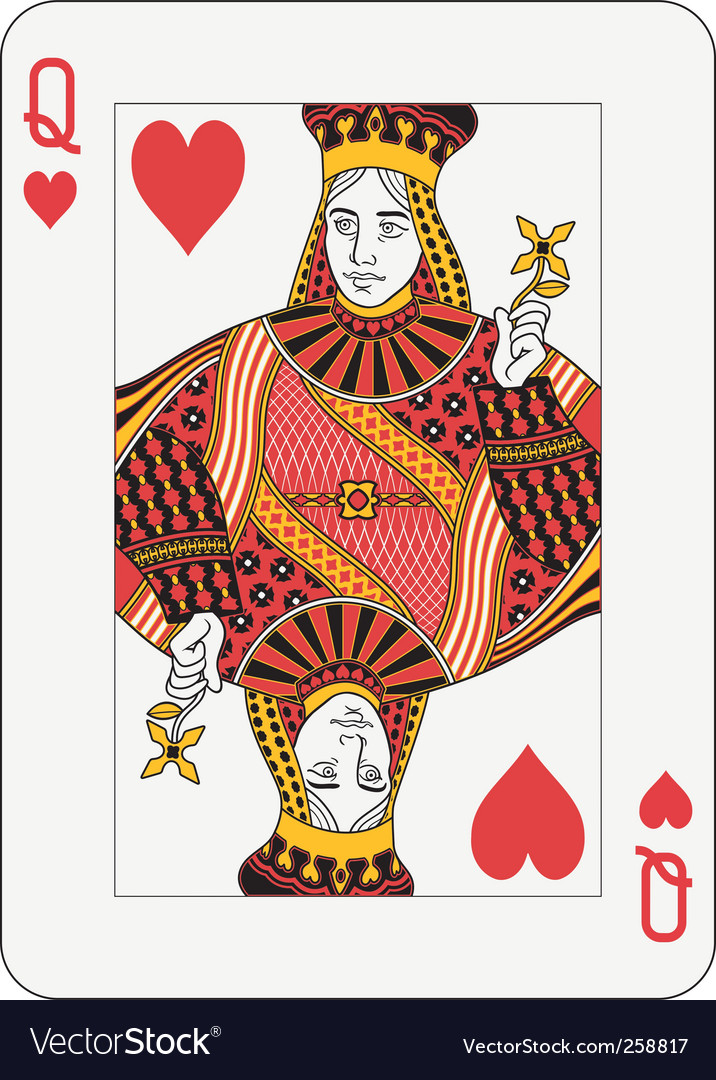queen of hearts: (4, 3, 716, 973)
